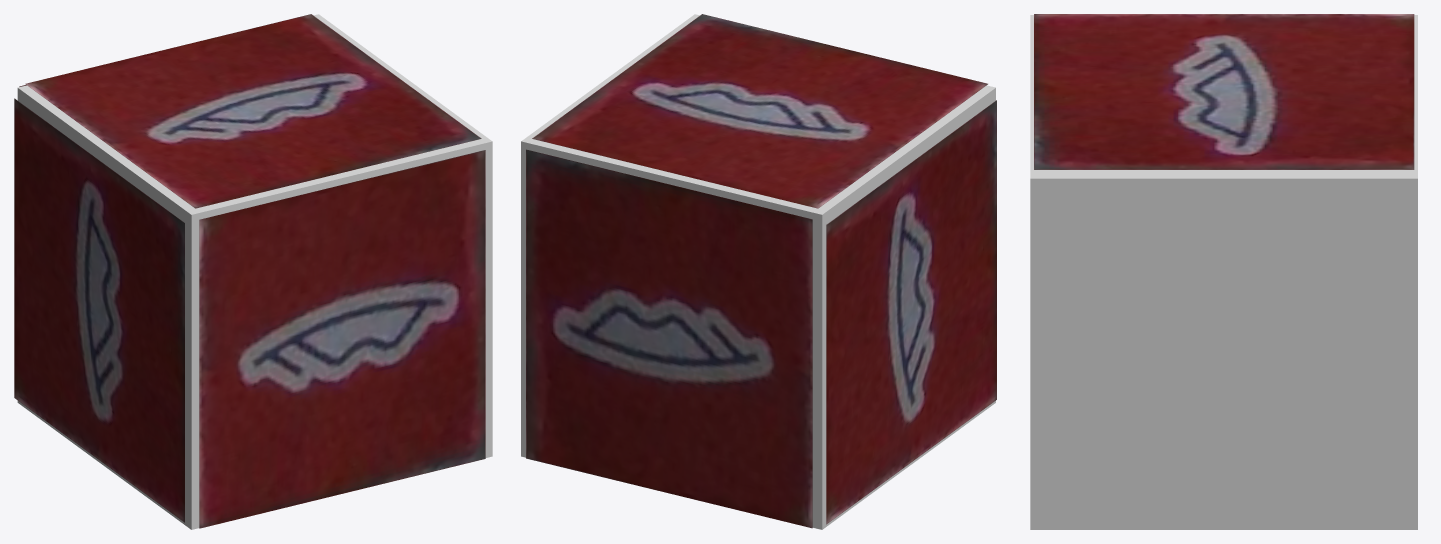
The picture shows the model from 3 angles, left to right: view 1: azimuth 30°, elevation 25°; view 2: azimuth 150°, elevation 25°; view 3: azimuth 270°, elevation 25°; orthographic projection. The views are drawn at different scales.
Parts seen in each view (by area): view 1: R1.004, R1.003, R1.002, Link30; view 2: R1.001, R1.003, R1.002, Link30; view 3: Link30, R1.002.
Boxes of the visible parts, bbox=[...] form: R1.004: bbox=[199, 150, 485, 528]; R1.003: bbox=[14, 98, 184, 522]; R1.002: bbox=[25, 14, 481, 208]; Link30: bbox=[17, 14, 492, 529]; R1.001: bbox=[526, 149, 812, 528]; R1.003: bbox=[826, 100, 996, 524]; R1.002: bbox=[532, 14, 987, 208]; Link30: bbox=[521, 14, 995, 529]; Link30: bbox=[1030, 15, 1417, 529]; R1.002: bbox=[1034, 14, 1414, 169].
Bounding box in the file's own units: 0.3543 × 0.3623 × 0.3557.
Materials: 1 (1 with a texture image).
